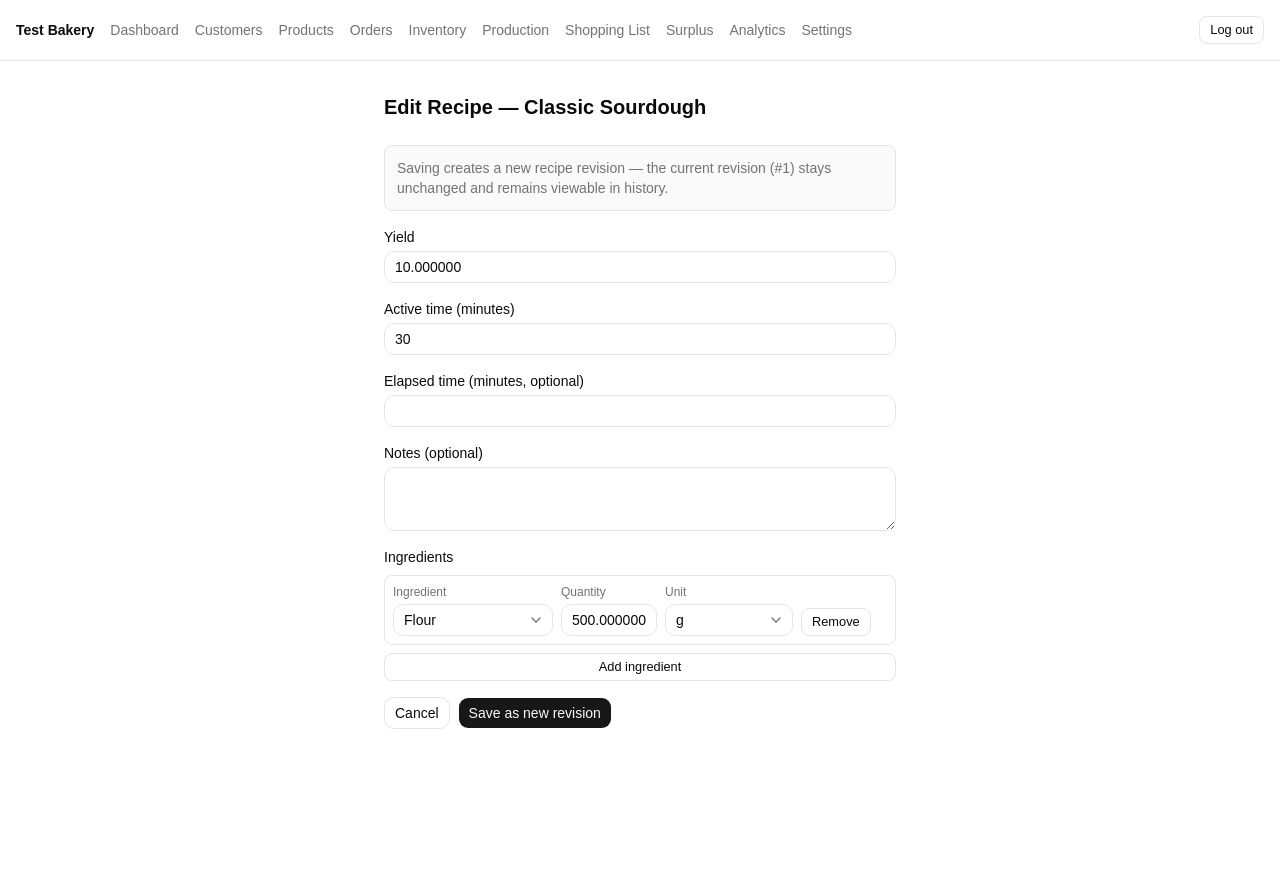
it: Recipe edit / create — Cancel › Recipe Edit Cancel returns to Product Detail without submitting anything or creating a revision
Check: the heading "Edit Recipe — Classic Sourdough" is shown, box [384,96,706,118]
Click the button "Cancel" at coordinates (417, 713), box [384,697,450,729]
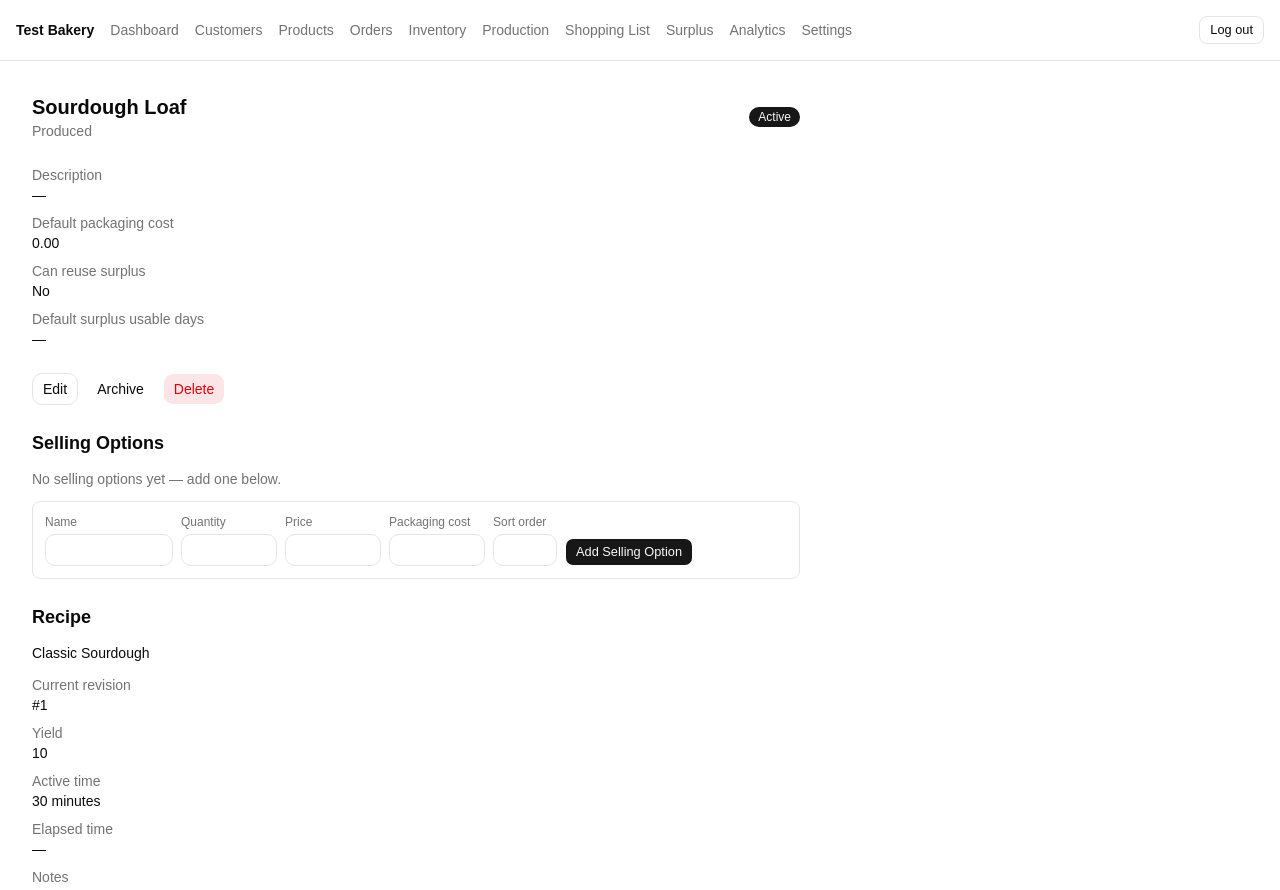
Check: the heading "Sourdough Loaf" is shown, box [32,93,186,121]
